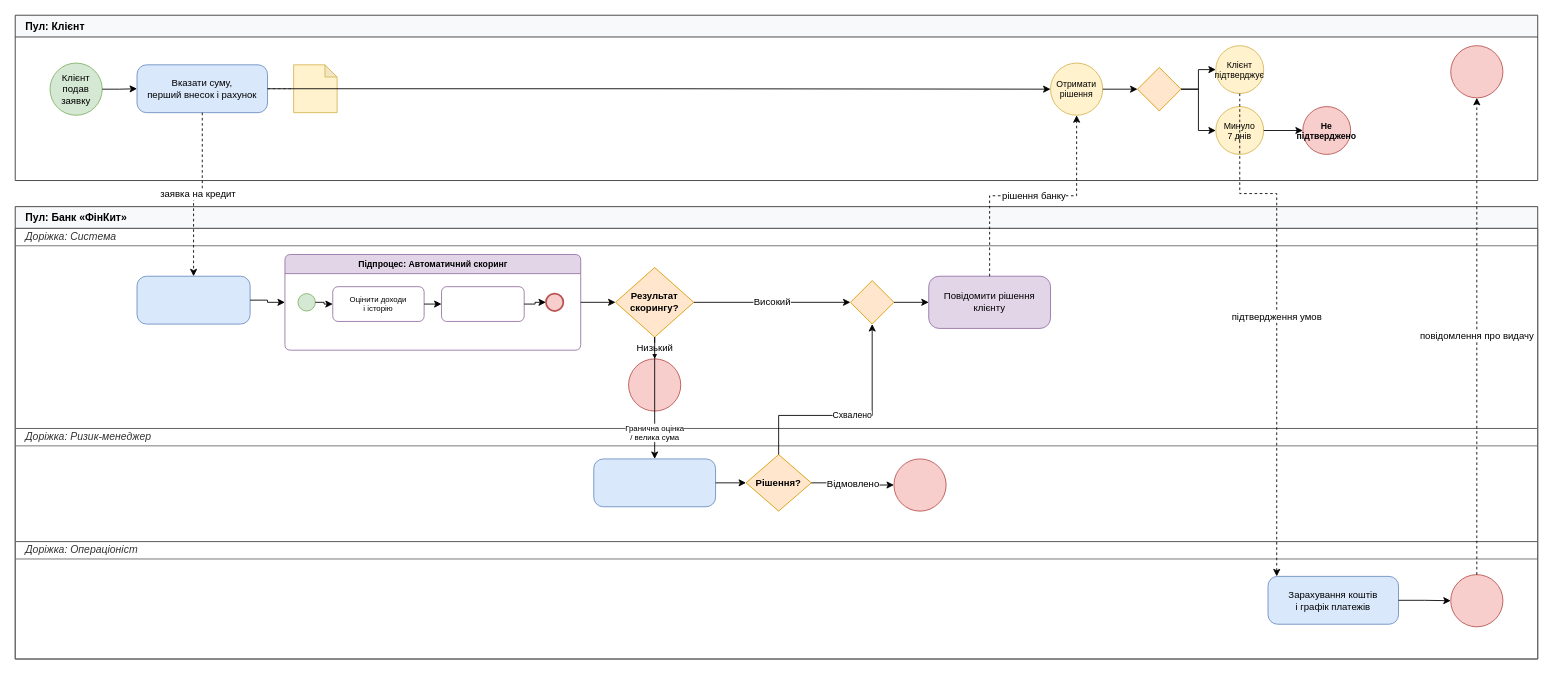
This 1553x674 diagram has some shape labels left out. Each missing label, with the centre of its shape:
Відмовлено автоматично: (654,384)
Відмовлено ризиками: (919,484)
Кредит видано: (1476,600)
Кредит оформлено: (1476,71)
Кредитна заявка: (315,88)
Перевірити межі суми і строку: (193,299)
Розрахувати бал: (482,303)
Ручний розгляд ризик-менеджером: (654,482)
